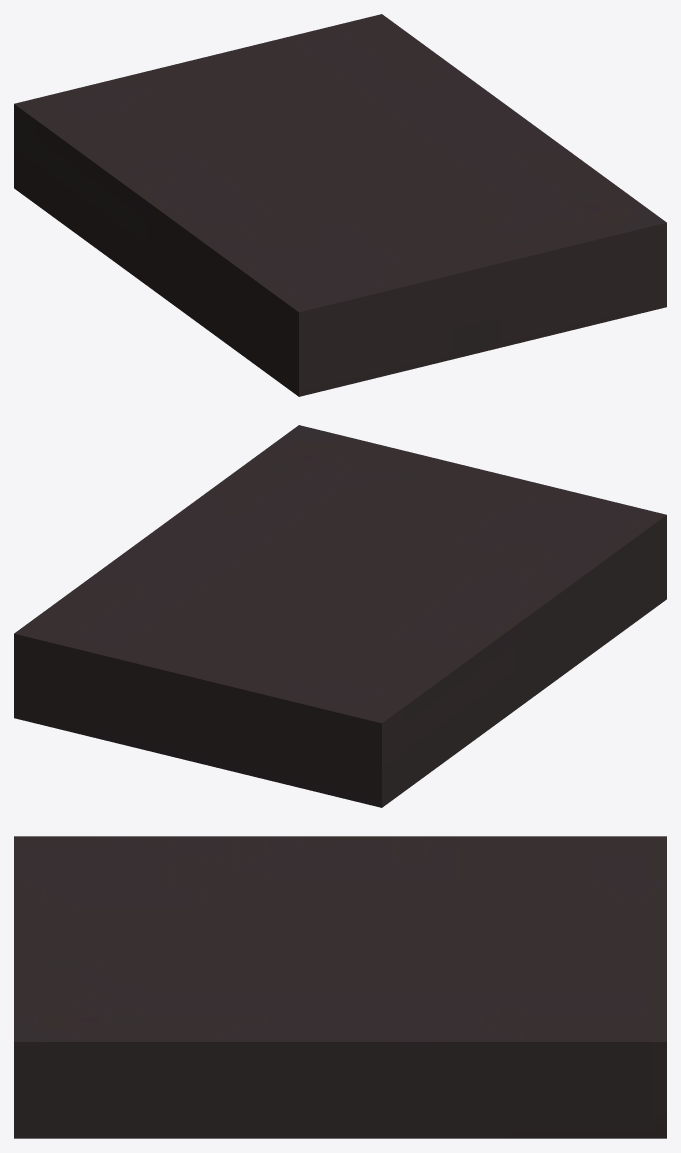
Rendered from panel__mount_block.glb.
3 views of the same model, one above another, from view 1: azimuth 30°, elevation 25°; view 2: azimuth 150°, elevation 25°; view 3: azimuth 270°, elevation 25° (orthographic). The views are drawn at different scales.
Visible parts, largest first — view 1: world; view 2: world; view 3: world.
Part boxes in pixels (x1,y1,x2,y2): world: (14, 14, 666, 396); world: (14, 425, 666, 807); world: (14, 836, 666, 1138).
Bounding box in the file's own units: 0.082 × 0.018 × 0.11.
Materials: 1 (1 with a texture image).
